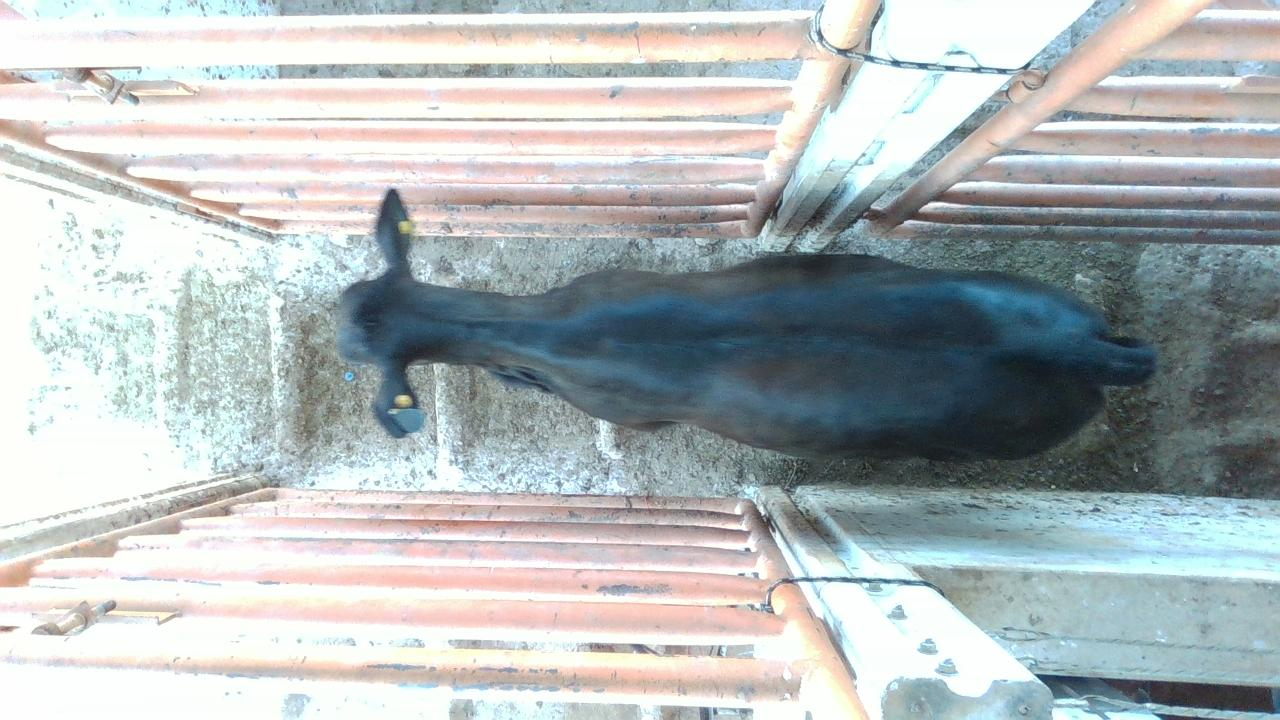cattle: (334, 187, 1158, 462)
